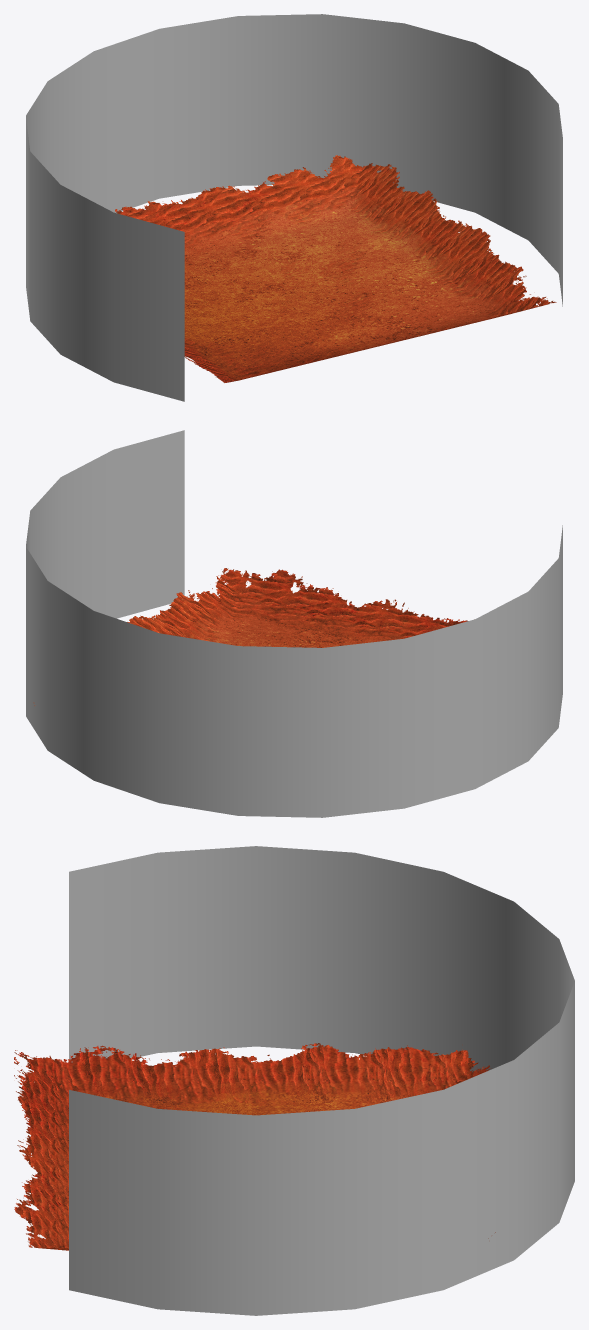
File: Mars_Chunk_4.fbx
3 renders of one model, top to bottom at view 1: azimuth 30°, elevation 25°; view 2: azimuth 150°, elevation 25°; view 3: azimuth 270°, elevation 25°, orthographic. The views are drawn at different scales.
Visible parts, largest first — view 1: environment, Chunk_4; view 2: environment, Chunk_4; view 3: environment, Chunk_4.
Boxes of the visible parts, x1,y1,x2,y2 form: environment: [26, 14, 562, 401]; Chunk_4: [115, 155, 556, 382]; environment: [26, 430, 562, 817]; Chunk_4: [33, 568, 467, 705]; environment: [69, 846, 574, 1315]; Chunk_4: [14, 1043, 495, 1250].
Size of the model in its own units: 44.4 by 15.41 by 39.08.
